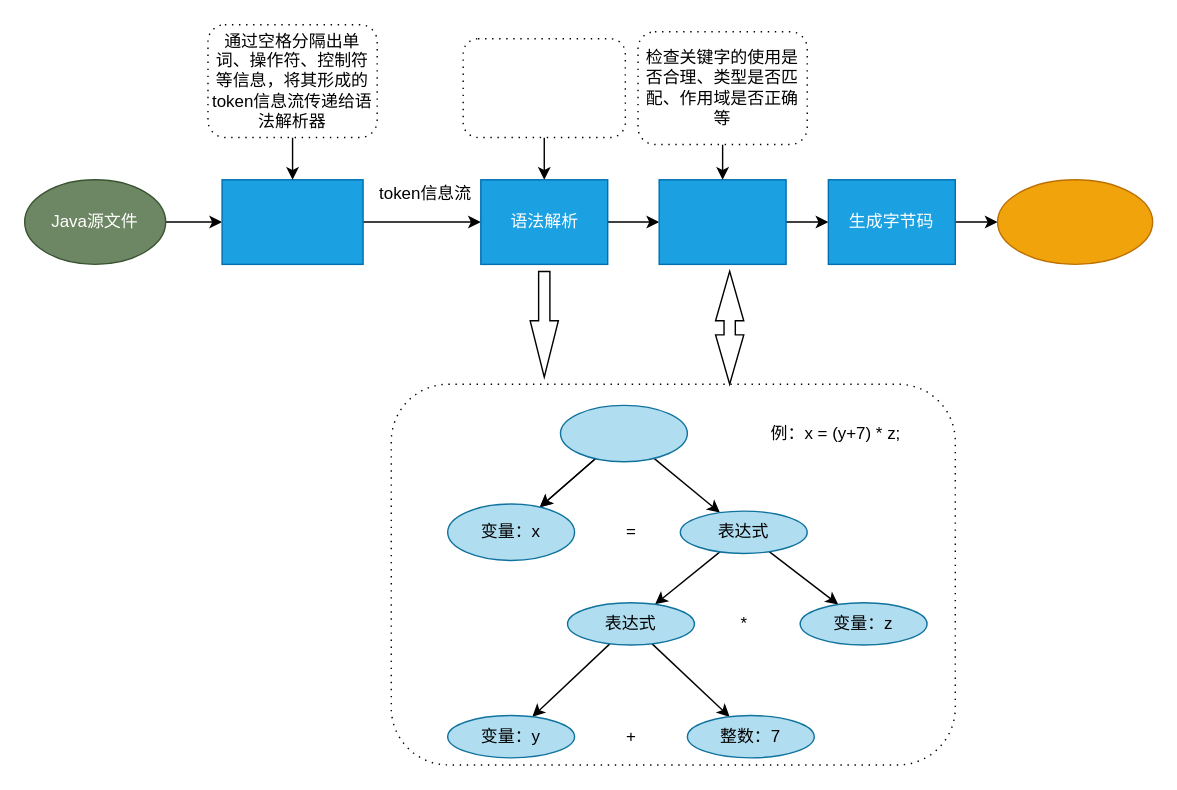
Image size: 1177x790. Some labels were removed from this diagram. The shapes that lost their labels are listed below. From the top down, each one's centre as x and y in pixels, then its label:
point 543,87: 将token信息流按照Java语法规则组装成一棵语法树
point 292,221: 词法解析
point 722,221: 词义分析
point 1074,221: 字节码
point 623,433: 赋值语句
